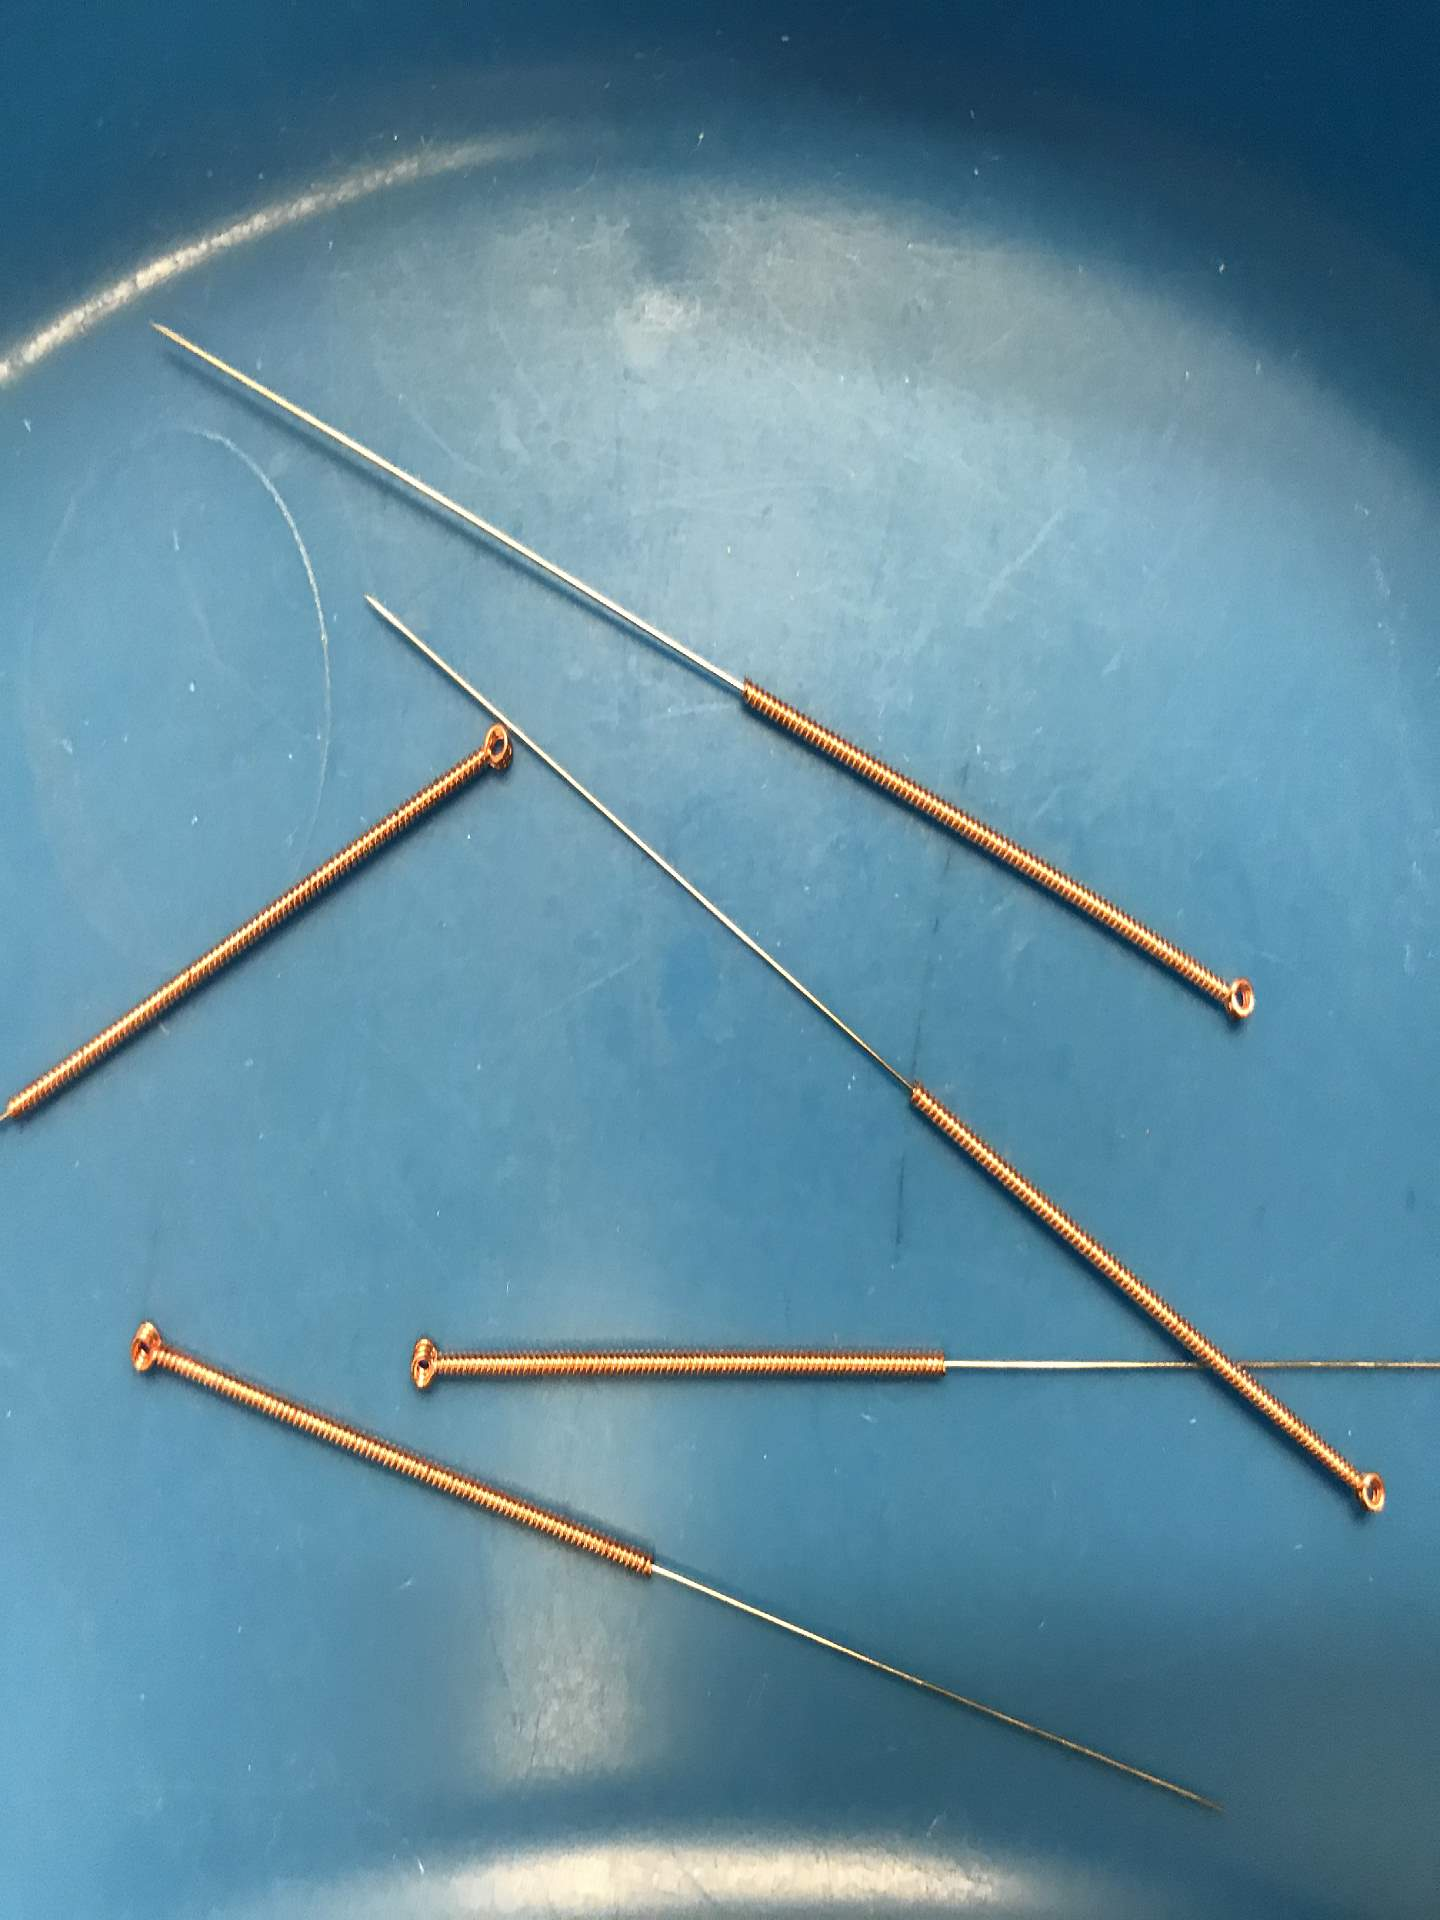needle: (1195, 955, 1272, 1043), (112, 1303, 180, 1400), (390, 1321, 457, 1411), (1333, 1447, 1402, 1531), (464, 714, 522, 786)
